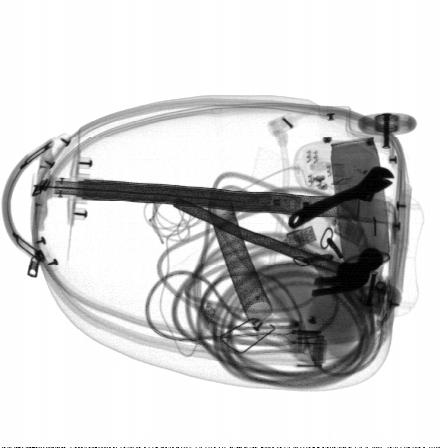Hammer: (172, 195, 384, 297)
Wrench: (288, 167, 396, 230)
